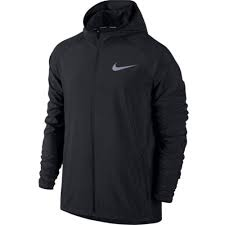nike: (109, 57, 143, 76)
